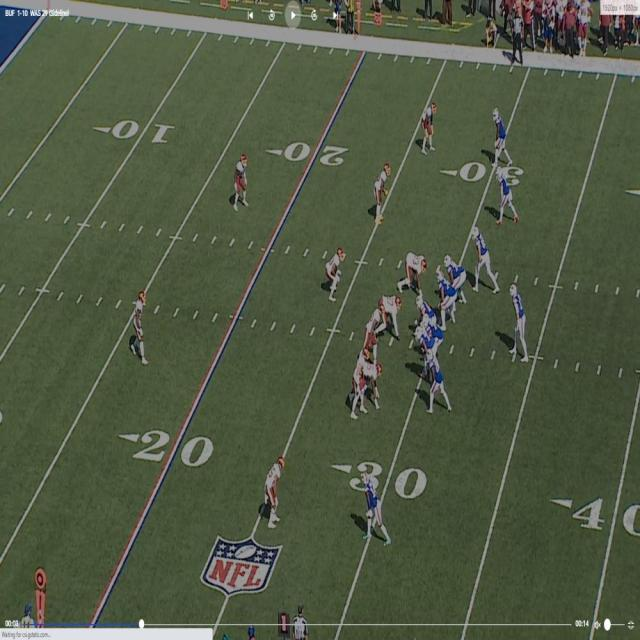center: (418, 294, 439, 330)
db: (266, 455, 284, 527), (132, 291, 146, 362), (232, 154, 248, 206), (420, 102, 437, 148)
lb: (324, 252, 342, 304), (352, 347, 366, 411), (372, 165, 387, 218)
qb: (508, 283, 526, 361)
skill: (473, 222, 498, 296), (496, 164, 518, 224), (365, 476, 383, 538), (429, 352, 447, 412), (494, 106, 511, 163)
